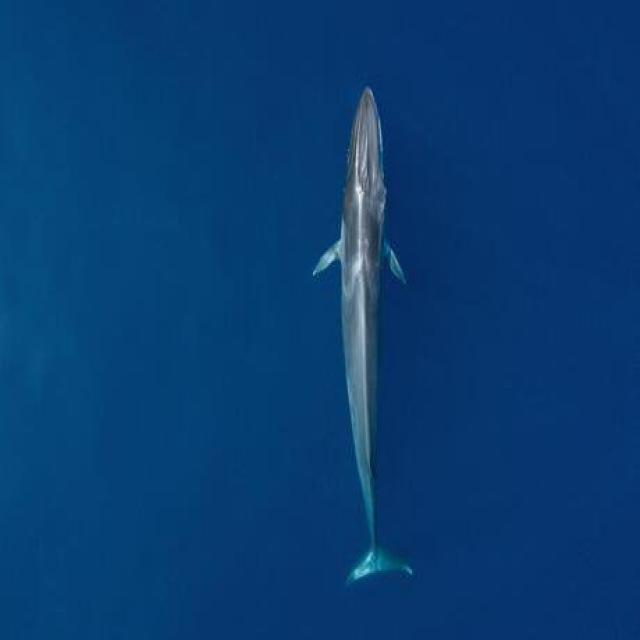whale: (313, 88, 410, 580)
